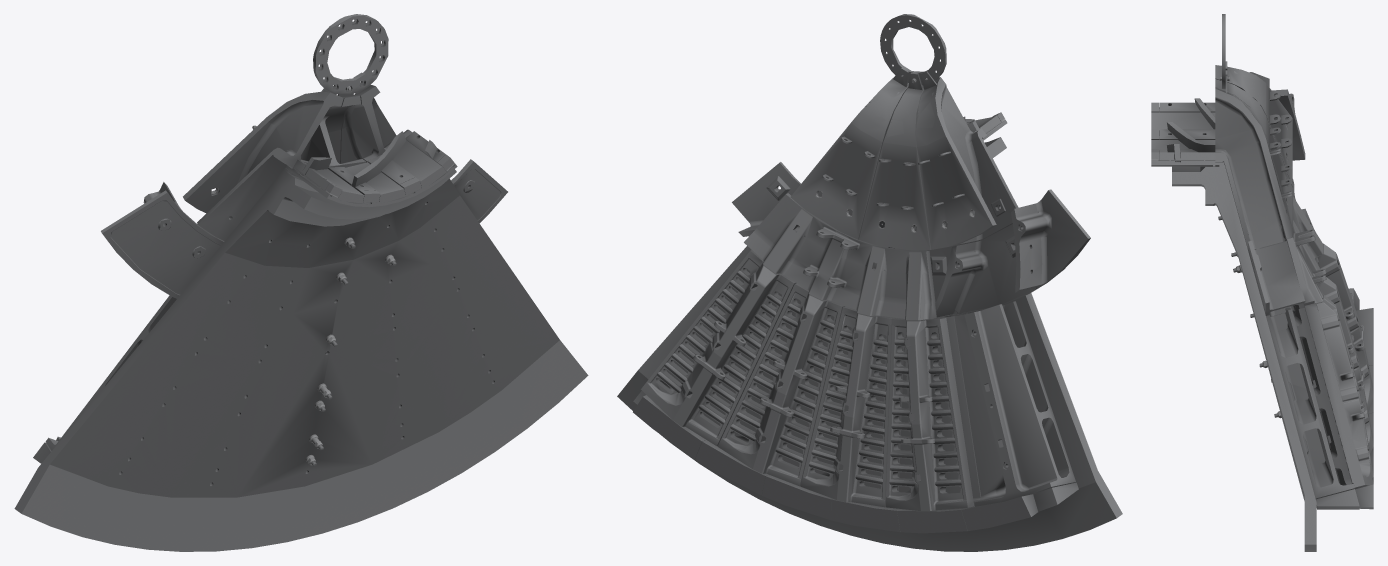
File: mining-sag-ngds-de.glb
3 renders of one model, left to right at view 1: azimuth 30°, elevation 25°; view 2: azimuth 150°, elevation 25°; view 3: azimuth 270°, elevation 25°, orthographic. The views are drawn at different scales.
Parts seen in each view (by area): view 1: metal, bolt; view 2: metal; view 3: metal.
Part boxes in pixels (bbox=[...]): metal: bbox=[14, 14, 588, 551]; bolt: bbox=[211, 86, 454, 465]; metal: bbox=[617, 14, 1122, 551]; metal: bbox=[1151, 14, 1373, 551].
Bounding box in the file's own units: 6.87 × 6.43 × 2.66.
3 materials, 1 textured.
